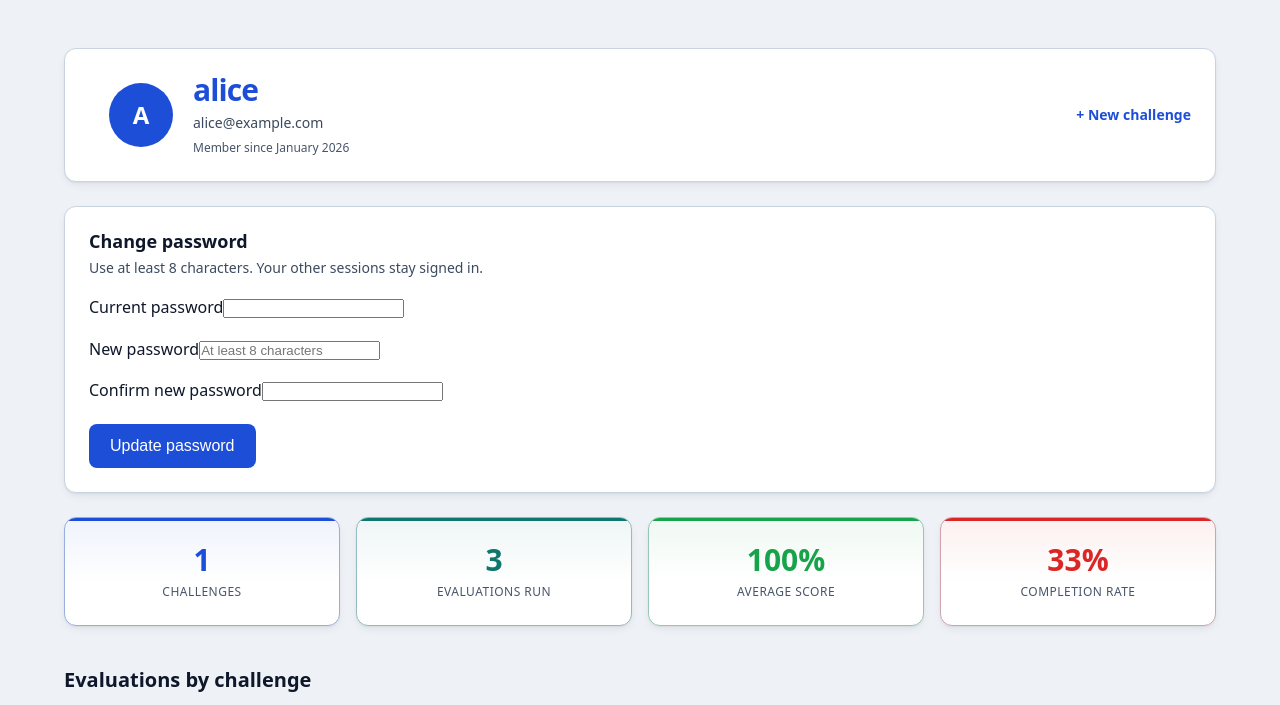
Profile › surfaces the API error when the current password is wrong
This screenshot has width=1280, height=705.
Expected: the heading "alice" is shown, [193,73,1056,108]
Type "wrongpassword" into the password field labelled "Current password".
click(314, 309); type("wrongpassword")  # box [223,299,404,318]
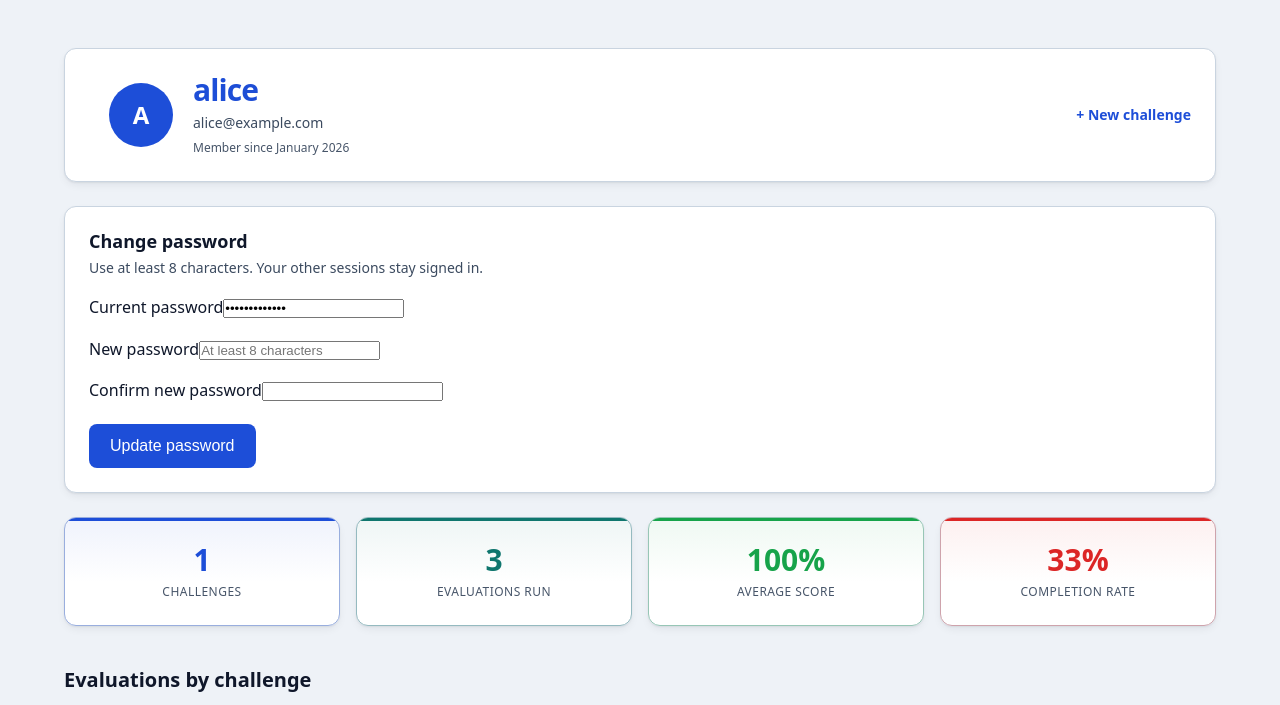
Type "newpass123456" into the password field labelled "New password".
click(290, 350); type("newpass123456")  # box [199,341,380,360]
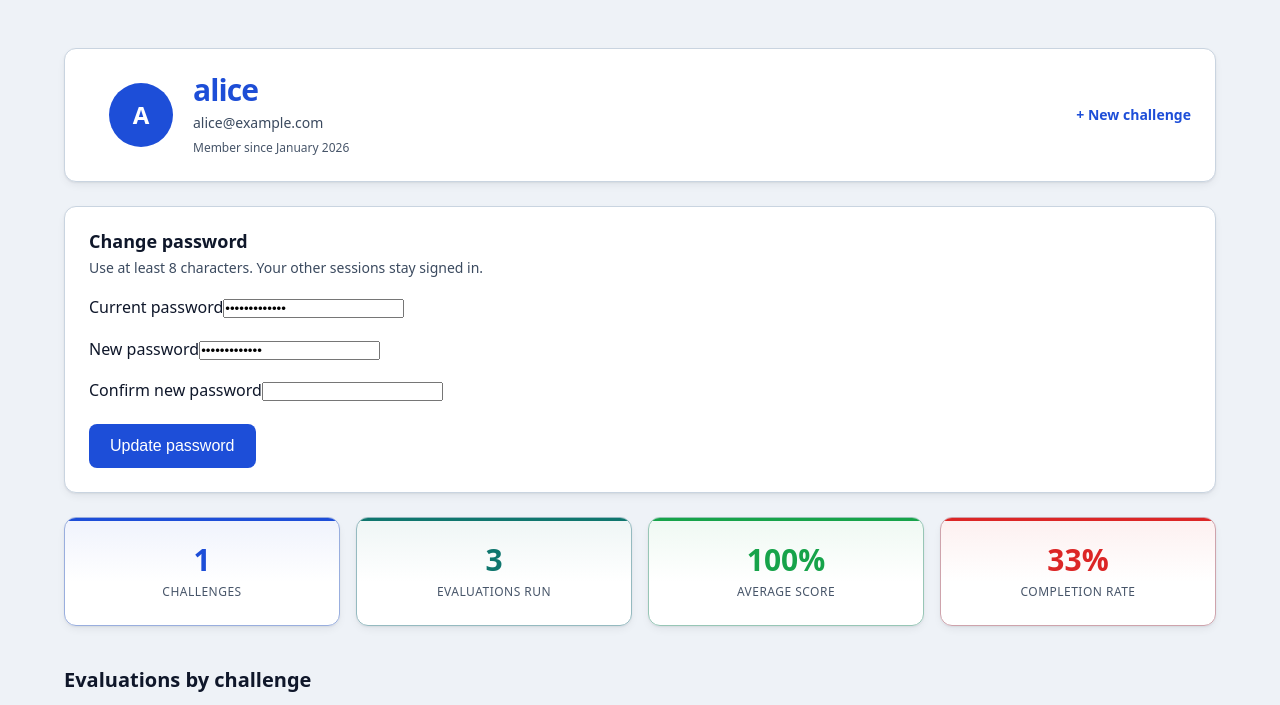
Type "newpass123456" into the password field labelled "Confirm new password".
click(352, 392); type("newpass123456")  # box [262,382,443,401]
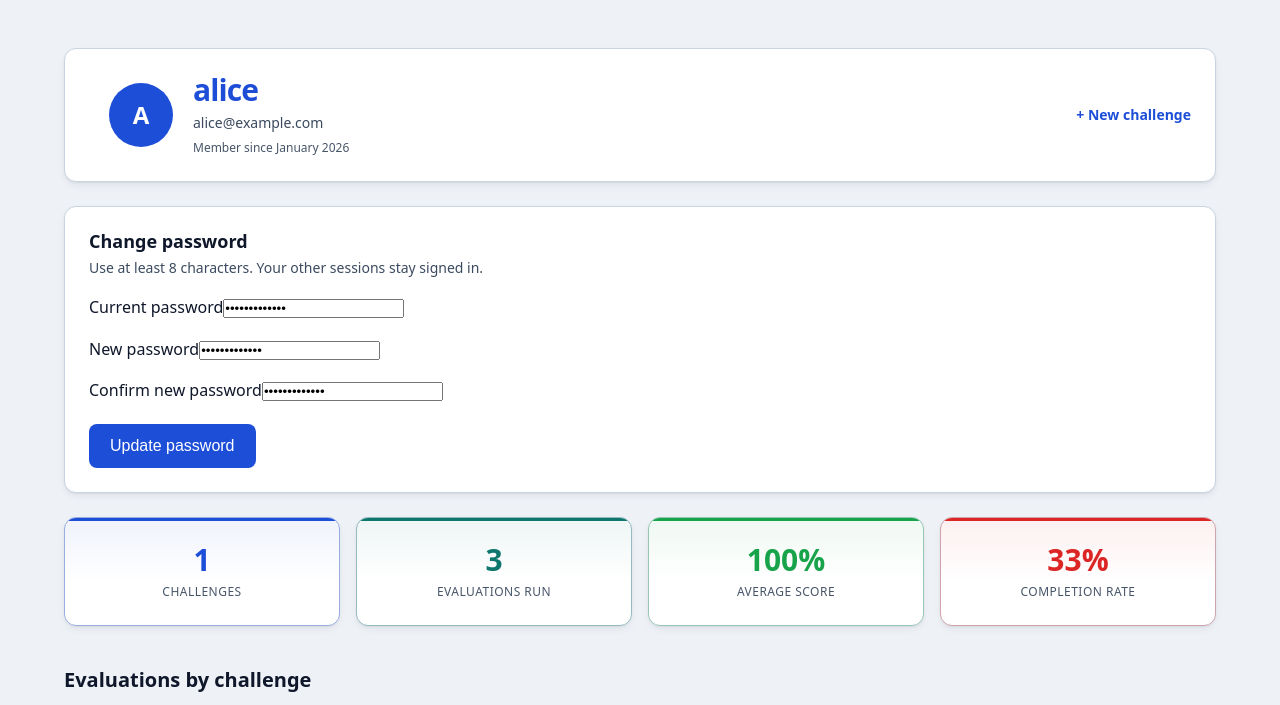
Click the button "Update password".
click(172, 446)  # box [89,424,256,468]
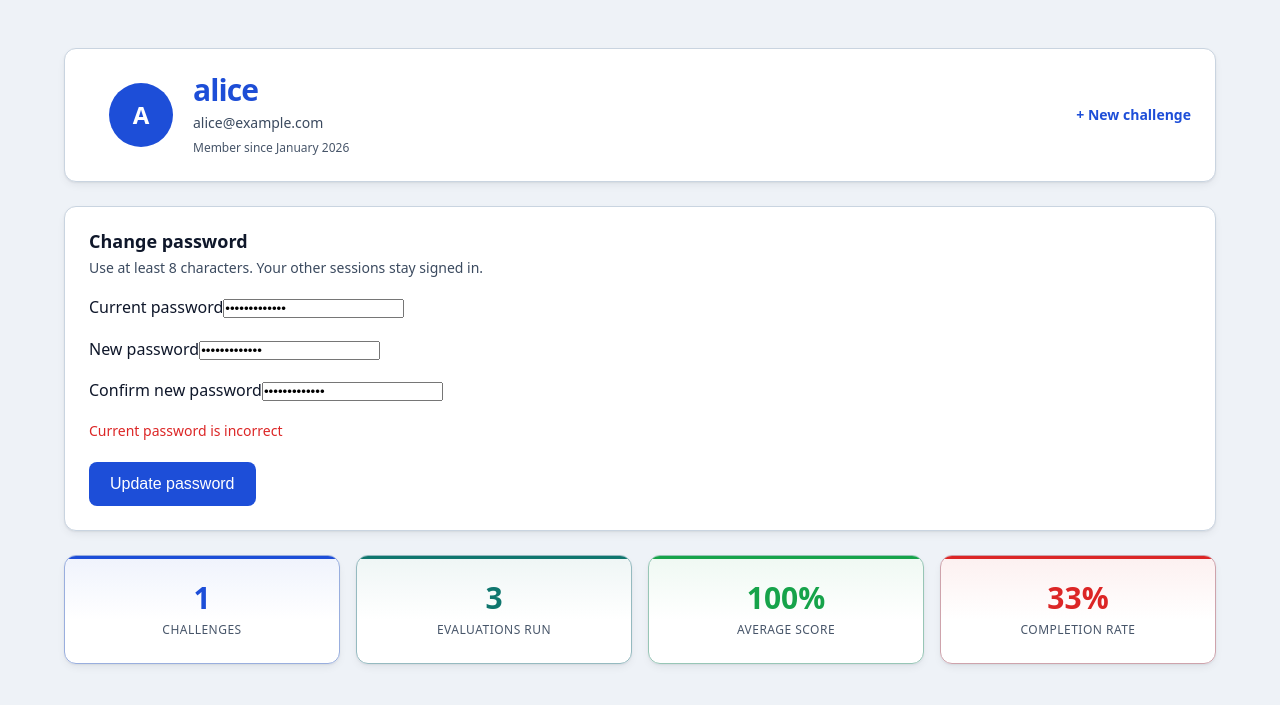
Now the message reads "Current password is incorrect", box [89,421,282,440]
